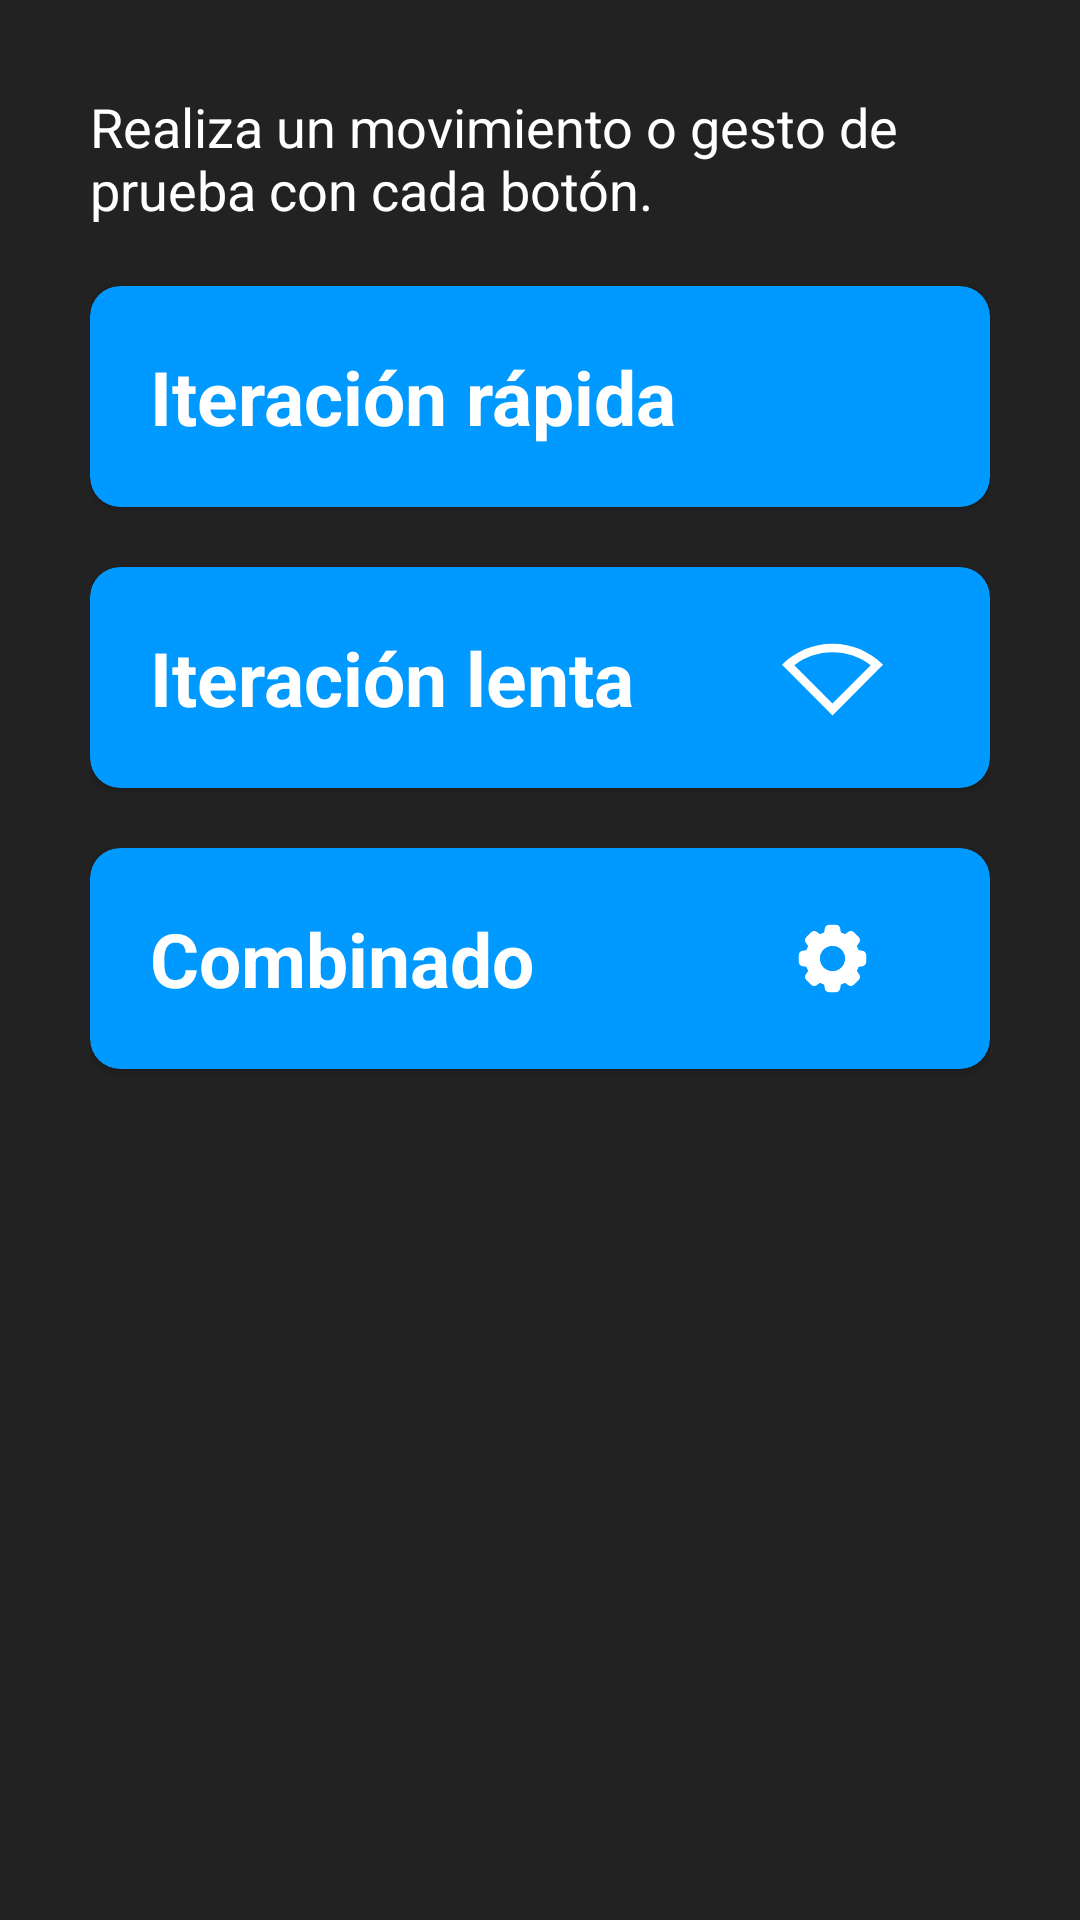

Locate icon controls on the screen. Image size 1080px x 1920px, boxes as {"left": x1, "top": y1, "right": x2, "bottom": y2}.
settings: {"left": 798, "top": 924, "right": 867, "bottom": 993}
wifi: {"left": 782, "top": 643, "right": 883, "bottom": 716}
